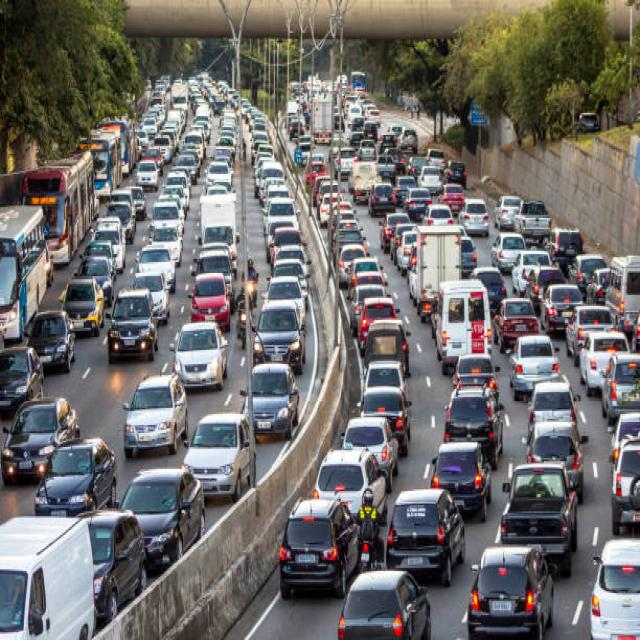Ad-signs: (468, 100, 488, 126)
Bus: (19, 149, 98, 265)
Car: (277, 492, 355, 582), (392, 482, 446, 568), (40, 432, 100, 508), (191, 408, 244, 488), (251, 297, 309, 361), (124, 375, 174, 442), (172, 320, 221, 388), (102, 290, 150, 352), (575, 111, 599, 132)
Pickup: (492, 451, 576, 564)
